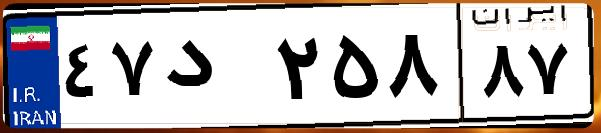2: (270, 28, 330, 110)
4: (57, 26, 110, 100)
5: (330, 28, 385, 110)
7: (525, 38, 570, 115), (110, 28, 158, 98)
8: (385, 28, 445, 110), (475, 38, 525, 113)
د: (158, 20, 270, 120)
